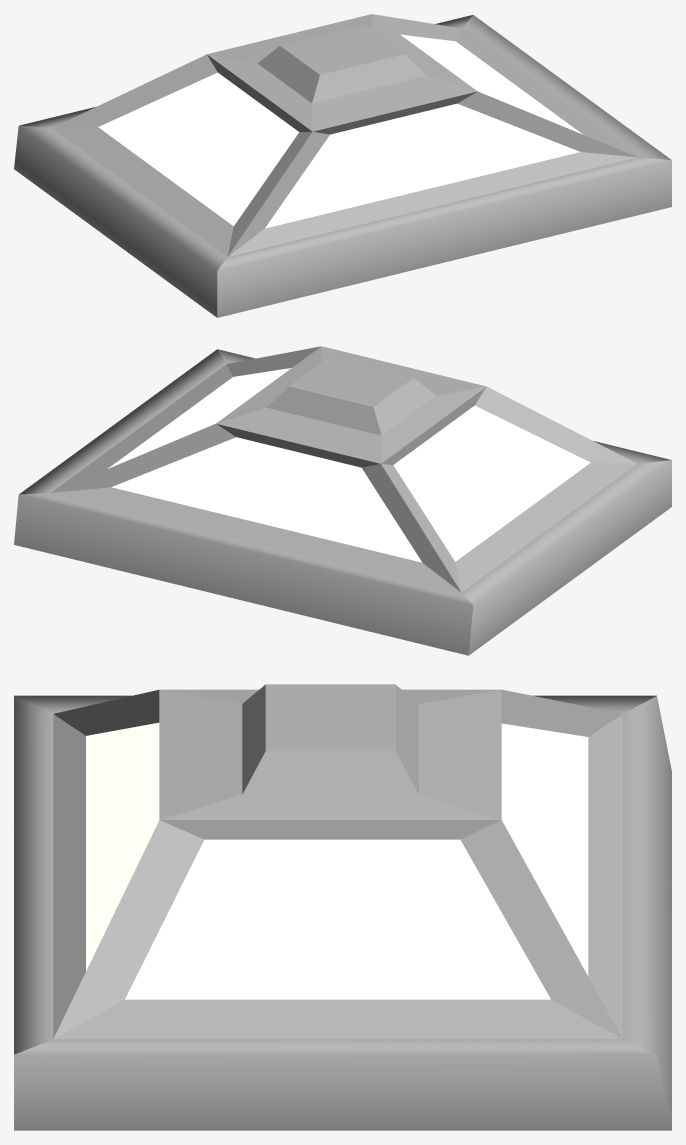
Rendered from Skylight-convcol.fbx.
3 views of the same model, one above another, from view 1: azimuth 30°, elevation 25°; view 2: azimuth 150°, elevation 25°; view 3: azimuth 270°, elevation 25° (orthographic). The views are drawn at different scales.
Visible parts, largest first — view 1: skylight_3-convcol; view 2: skylight_3-convcol; view 3: skylight_3-convcol.
Part boxes in pixels (x1,y1,x2,y2): skylight_3-convcol: [14, 14, 671, 317]; skylight_3-convcol: [14, 346, 671, 655]; skylight_3-convcol: [14, 684, 671, 1130].
Size of the model in its own units: 280 by 83.63 by 217.
